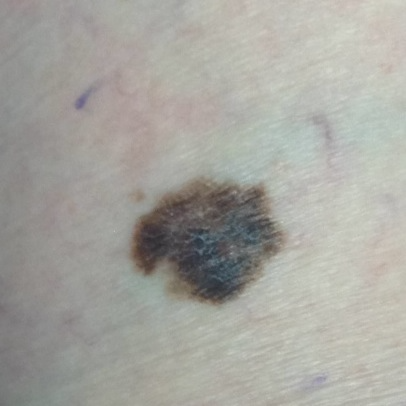Melanoma: (133, 178, 287, 304)
